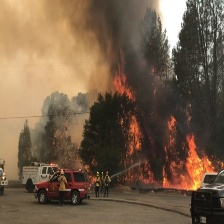fire: (110, 76, 224, 188)
smoke: (1, 1, 166, 131)
